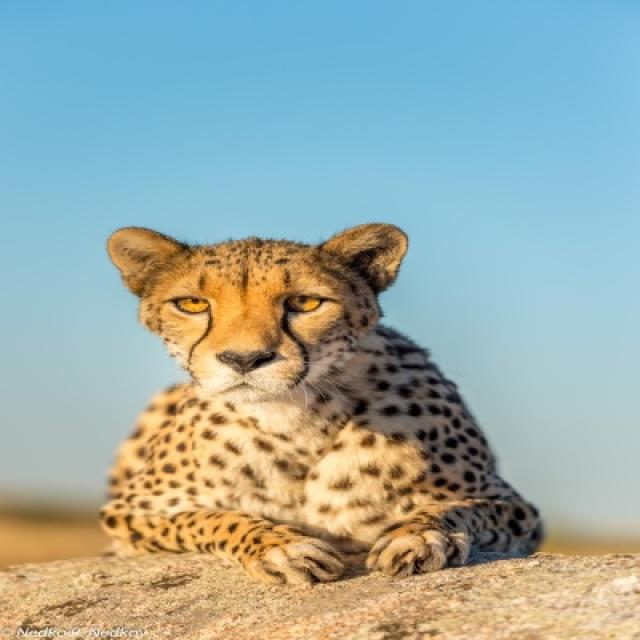Cheetah: (96, 222, 544, 589)
